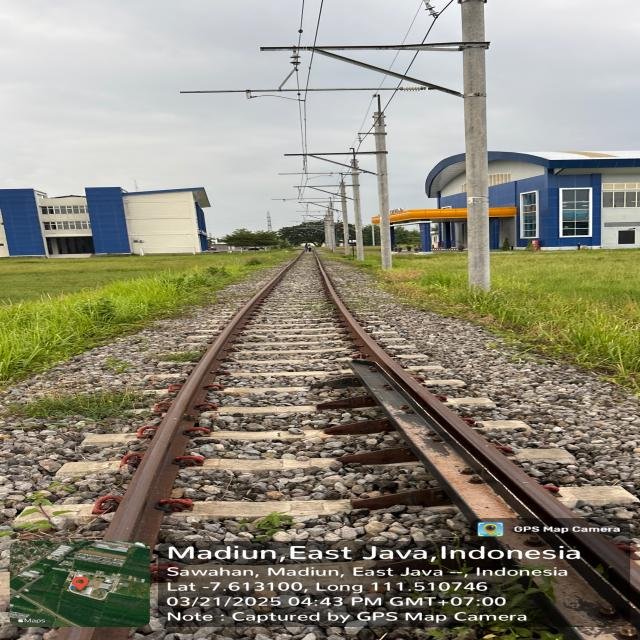rail-detection: (320, 268, 640, 627), (104, 260, 297, 556), (76, 630, 127, 640)
